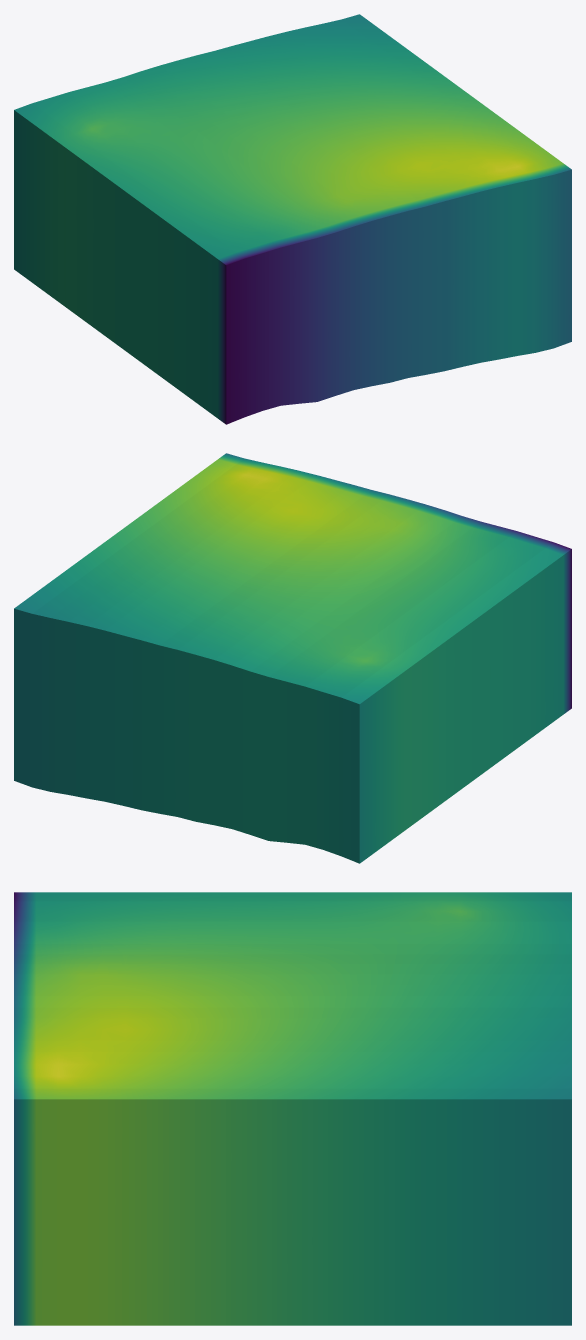
The picture shows the model from 3 angles, top to bottom: view 1: azimuth 30°, elevation 25°; view 2: azimuth 150°, elevation 25°; view 3: azimuth 270°, elevation 25°; orthographic projection. The views are drawn at different scales.
Parts seen in each view (by area): view 1: Renderer Node; view 2: Renderer Node; view 3: Renderer Node.
Boxes of the visible parts, x1,y1,x2,y2 form: Renderer Node: (14, 14, 571, 424); Renderer Node: (14, 453, 571, 863); Renderer Node: (14, 892, 571, 1325).
Bounding box in the file's own units: 929 × 449 × 988.
Materials: 1 (1 with a texture image).
